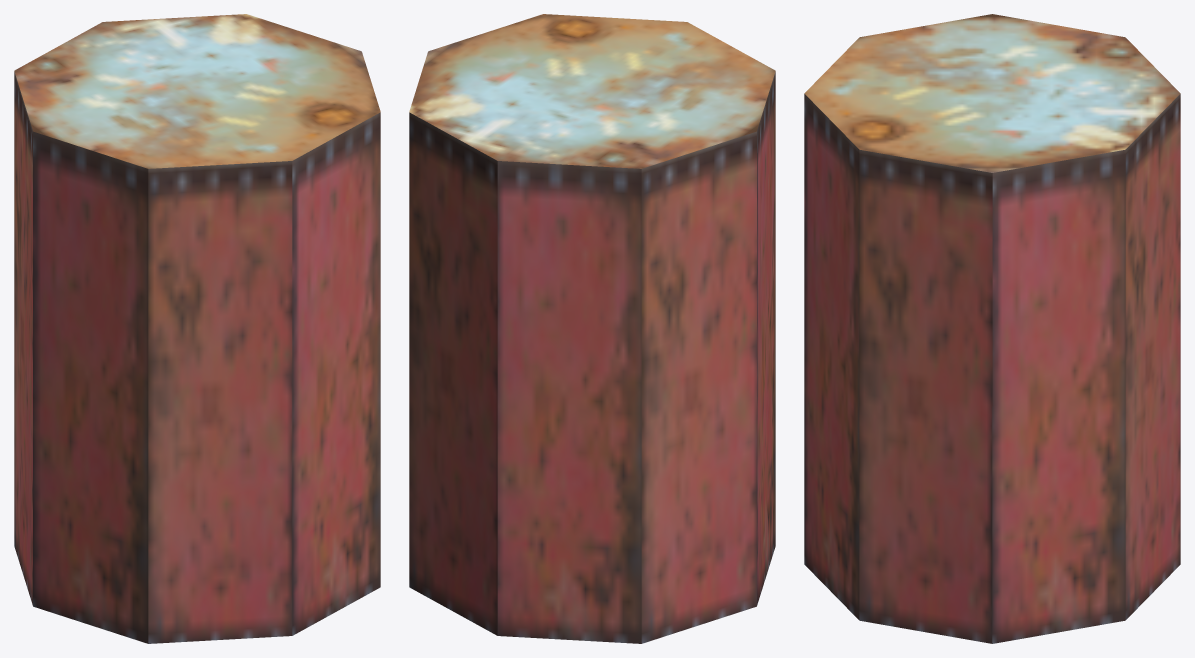
File: barellRed.fbx
The picture shows the model from 3 angles, left to right: view 1: azimuth 30°, elevation 25°; view 2: azimuth 150°, elevation 25°; view 3: azimuth 270°, elevation 25°; orthographic projection.
Visible parts, largest first — view 1: Cylinder.014; view 2: Cylinder.014; view 3: Cylinder.014.
Boxes of the visible parts, bbox=[...] form: Cylinder.014: bbox=[14, 14, 380, 643]; Cylinder.014: bbox=[409, 14, 775, 643]; Cylinder.014: bbox=[804, 14, 1180, 643].
Bounding box in the file's own units: 349 × 482 × 349.
